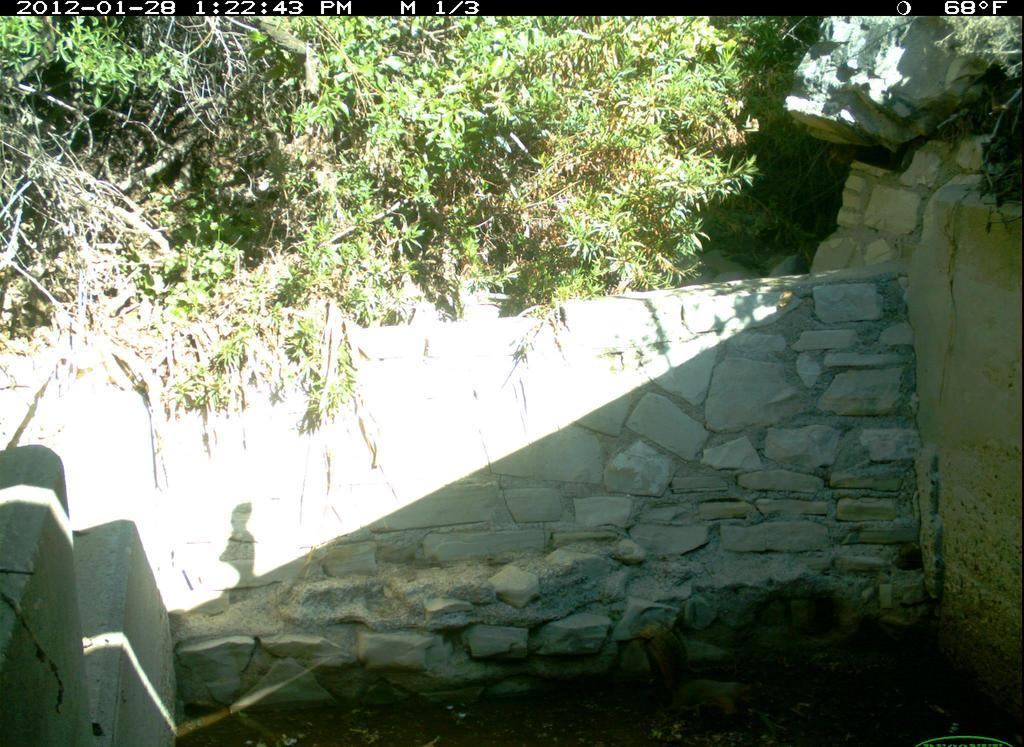squirrel: (637, 615, 770, 737)
